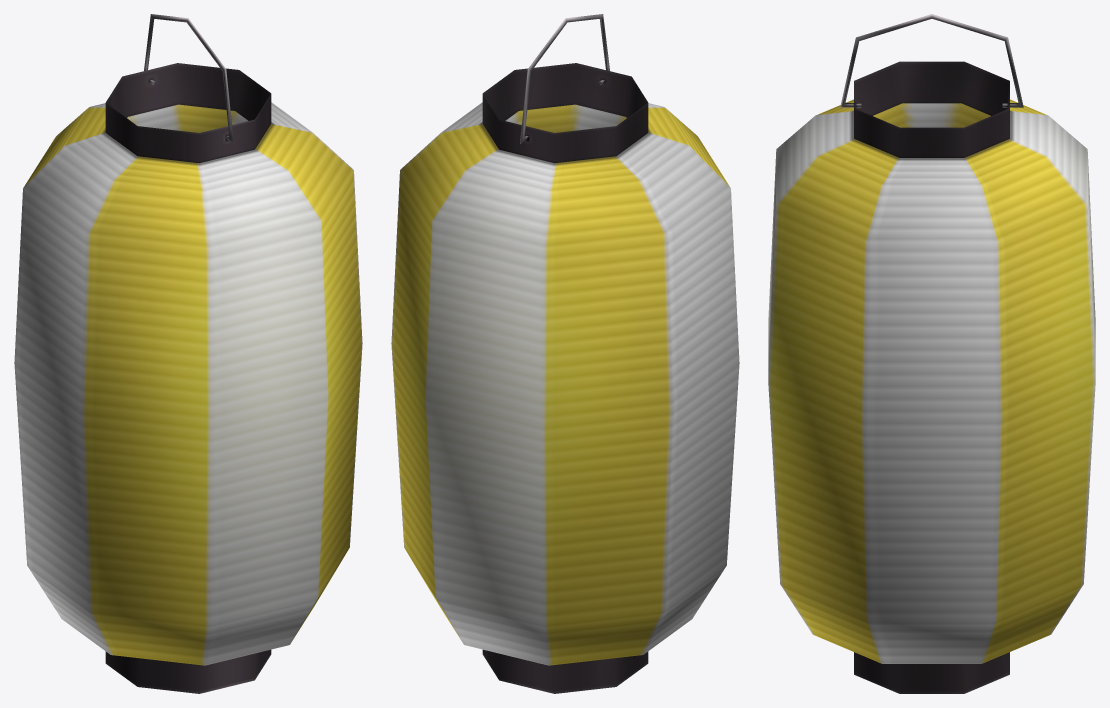
File: jsf_Light_Lantern_09.fbx
3 views of the same model, side by side, from view 1: azimuth 30°, elevation 25°; view 2: azimuth 150°, elevation 25°; view 3: azimuth 270°, elevation 25° (orthographic).
Parts seen in each view (by area): view 1: Lantern, Handle; view 2: Lantern, Handle; view 3: Lantern, Handle.
Boxes of the visible parts, left/top/right/bottom form: Lantern: left=14, top=63, right=362, bottom=693; Handle: left=144, top=14, right=233, bottom=143; Lantern: left=391, top=63, right=739, bottom=693; Handle: left=520, top=14, right=609, bottom=143; Lantern: left=768, top=61, right=1095, bottom=693; Handle: left=840, top=14, right=1023, bottom=107.
Size of the model in its own units: 24.44 by 53.27 by 24.44.
